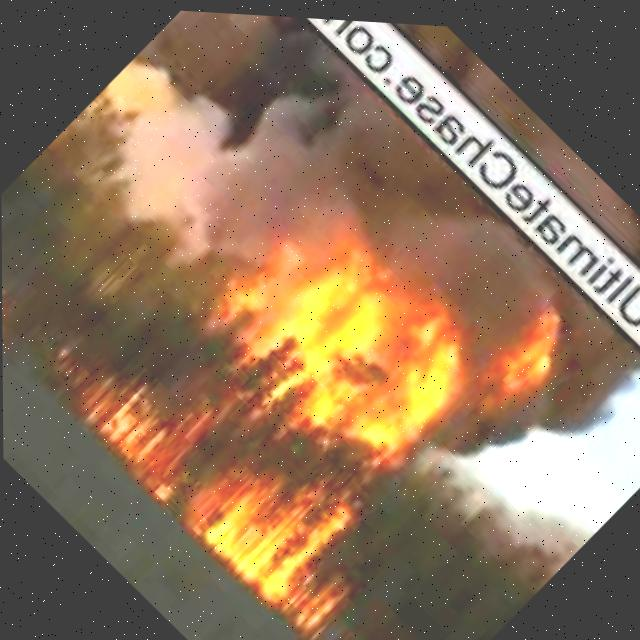Fire: (47, 306, 384, 640), (208, 194, 489, 483), (462, 287, 588, 423)
Smoke: (154, 7, 552, 352), (279, 13, 640, 332), (41, 32, 313, 312)
